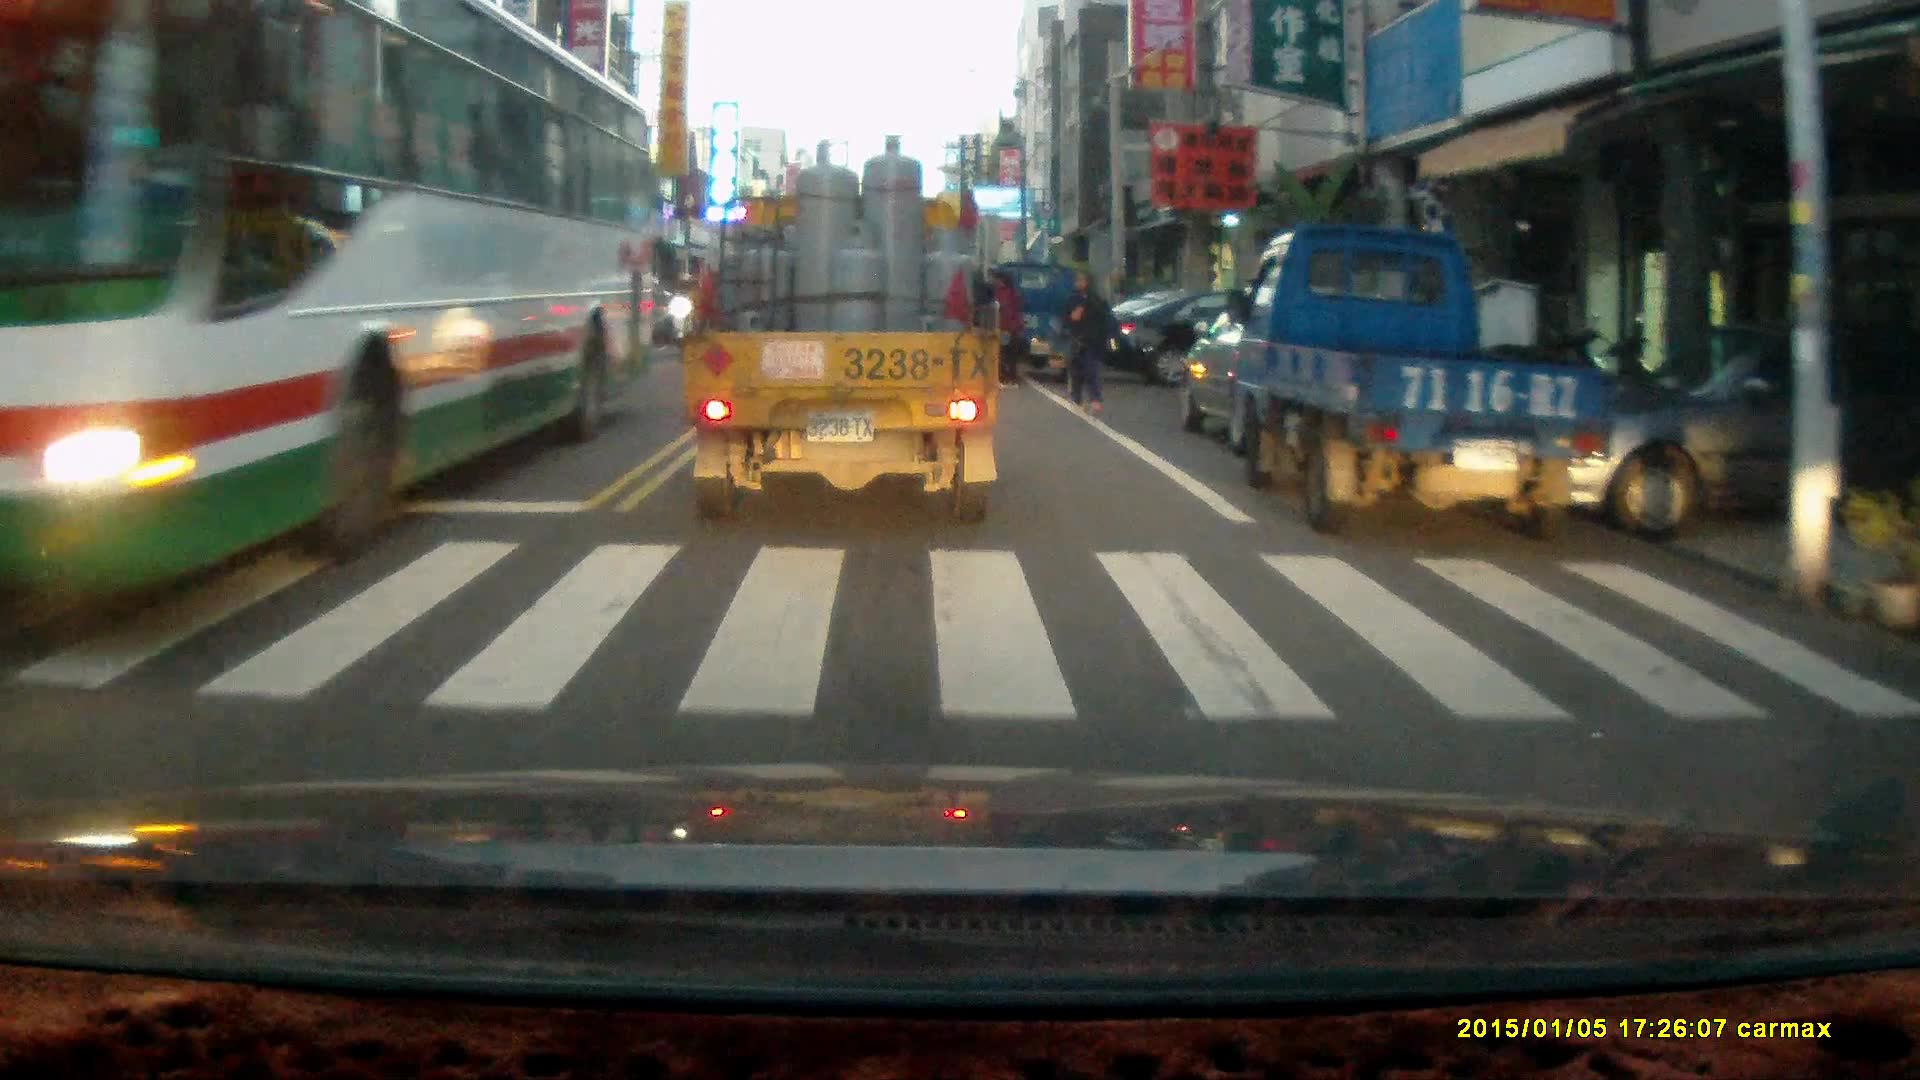pedestrian: (1061, 267, 1120, 412), (989, 266, 1024, 387)
rider: (664, 269, 701, 359)
vehicle: (1, 16, 650, 597), (680, 132, 1008, 528), (1219, 219, 1615, 538), (1109, 272, 1343, 387), (984, 260, 1104, 386)
